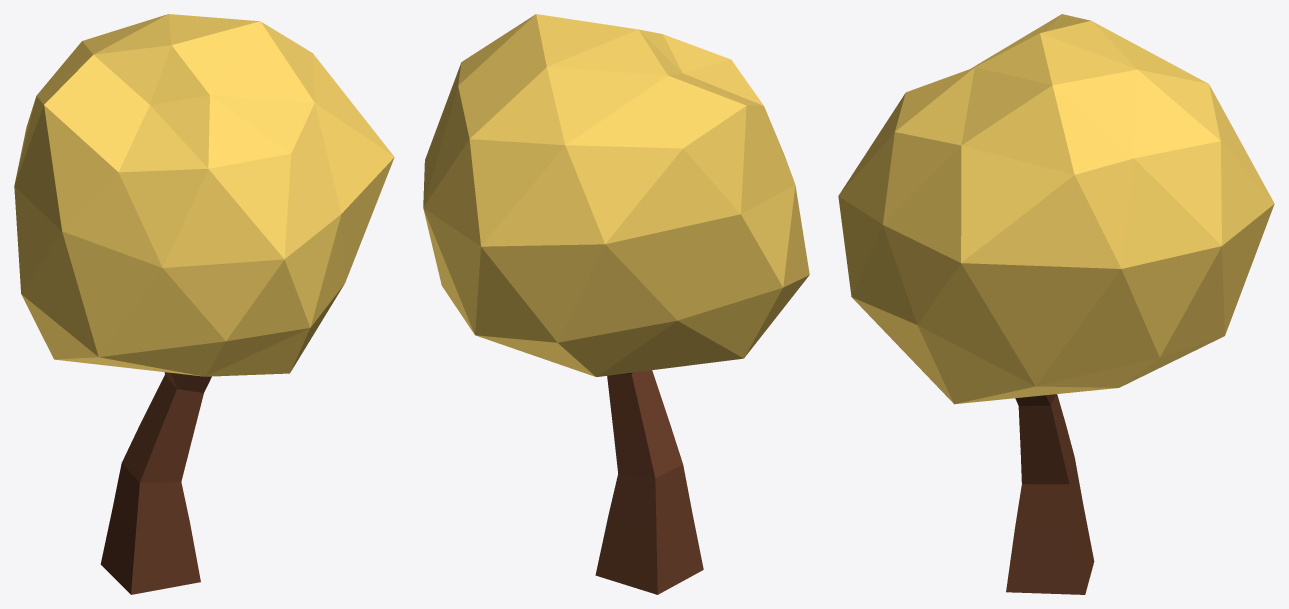
File: LemonTree3.fbx
The picture shows the model from 3 angles, left to right: view 1: azimuth 30°, elevation 25°; view 2: azimuth 150°, elevation 25°; view 3: azimuth 270°, elevation 25°; orthographic projection. The views are drawn at different scales.
Visible parts, largest first — view 1: LemonTree3; view 2: LemonTree3; view 3: LemonTree3.
Boxes of the visible parts, x1,y1,x2,y2 form: LemonTree3: (14, 14, 394, 594); LemonTree3: (423, 14, 809, 594); LemonTree3: (838, 14, 1274, 594).
Bounding box in the file's own units: 257 × 391 × 280.
